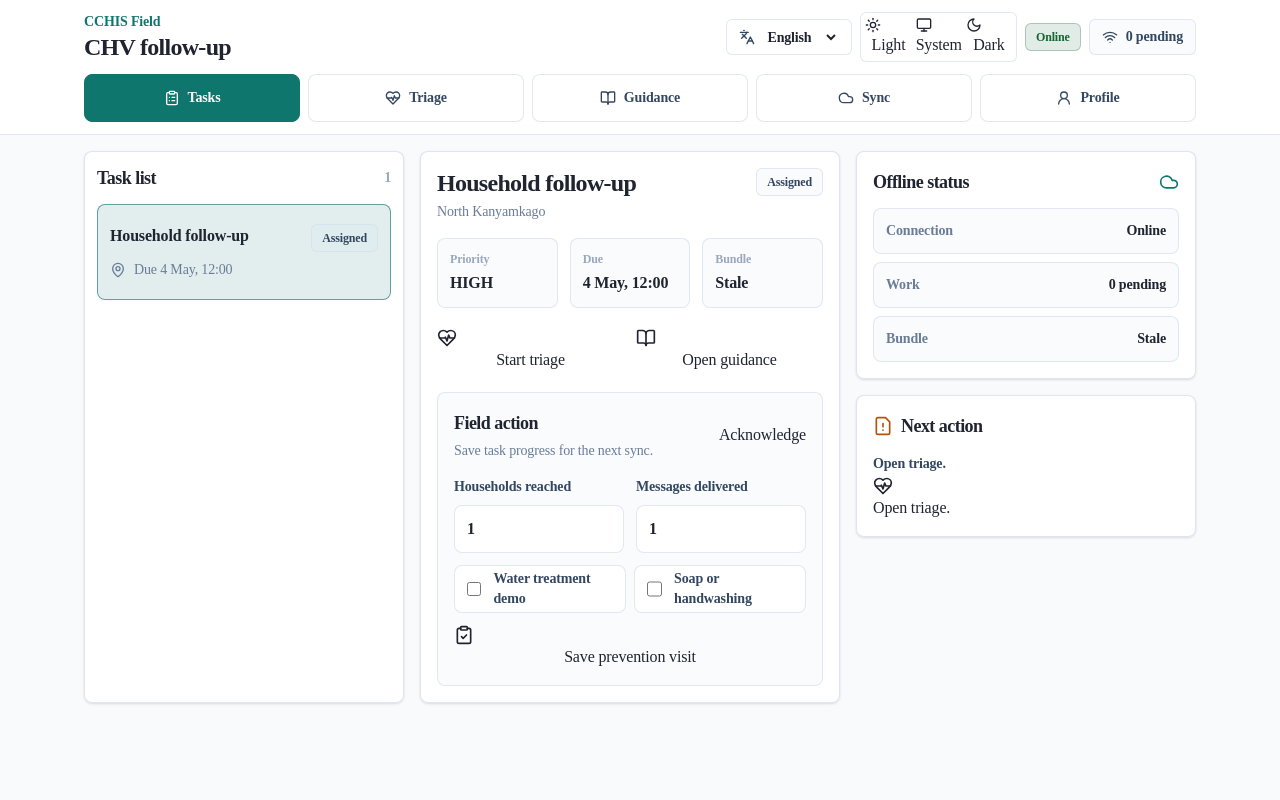
Scenario: ChvOfflinePage › loads live assigned tasks, registers the device, and syncs prevention visits
Click the button "Save prevention visit" at point(630, 647), box [454, 625, 806, 669]
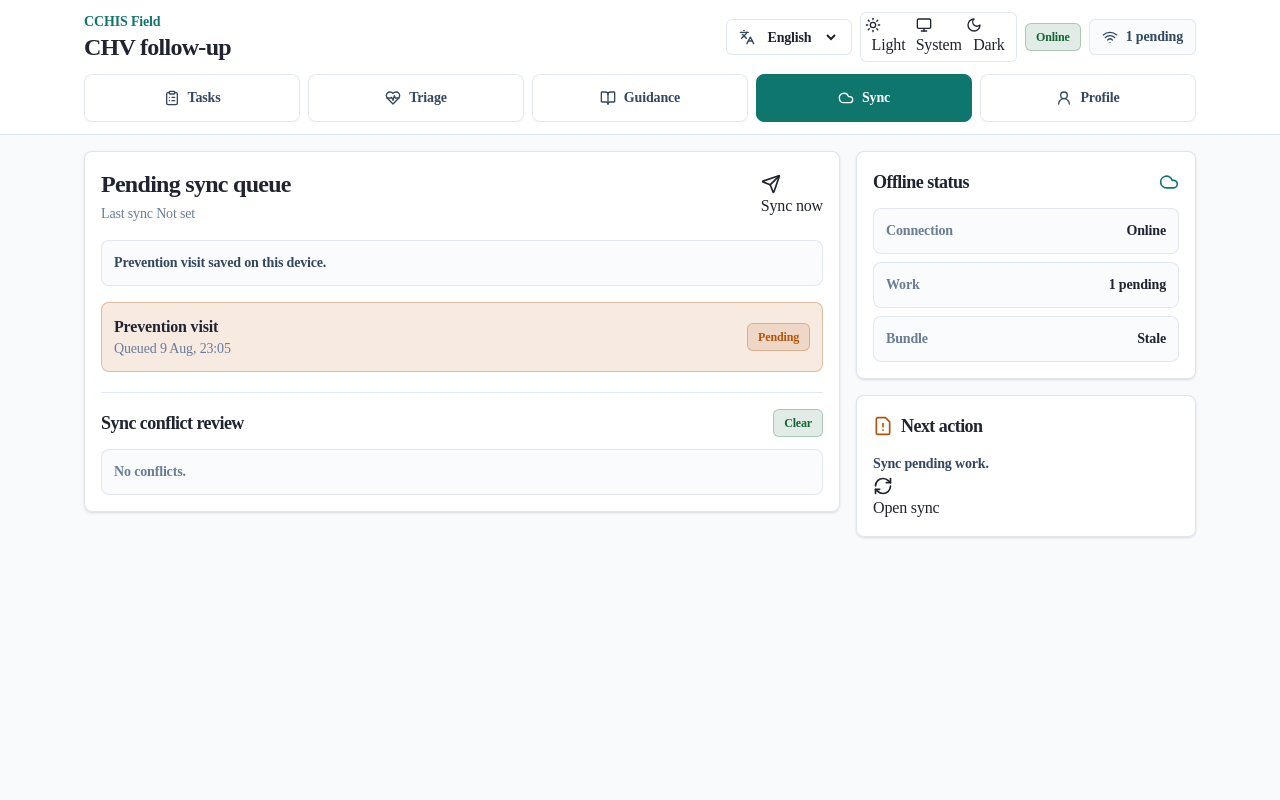
Click the button "Sync now" at point(792, 196), box [761, 174, 823, 218]
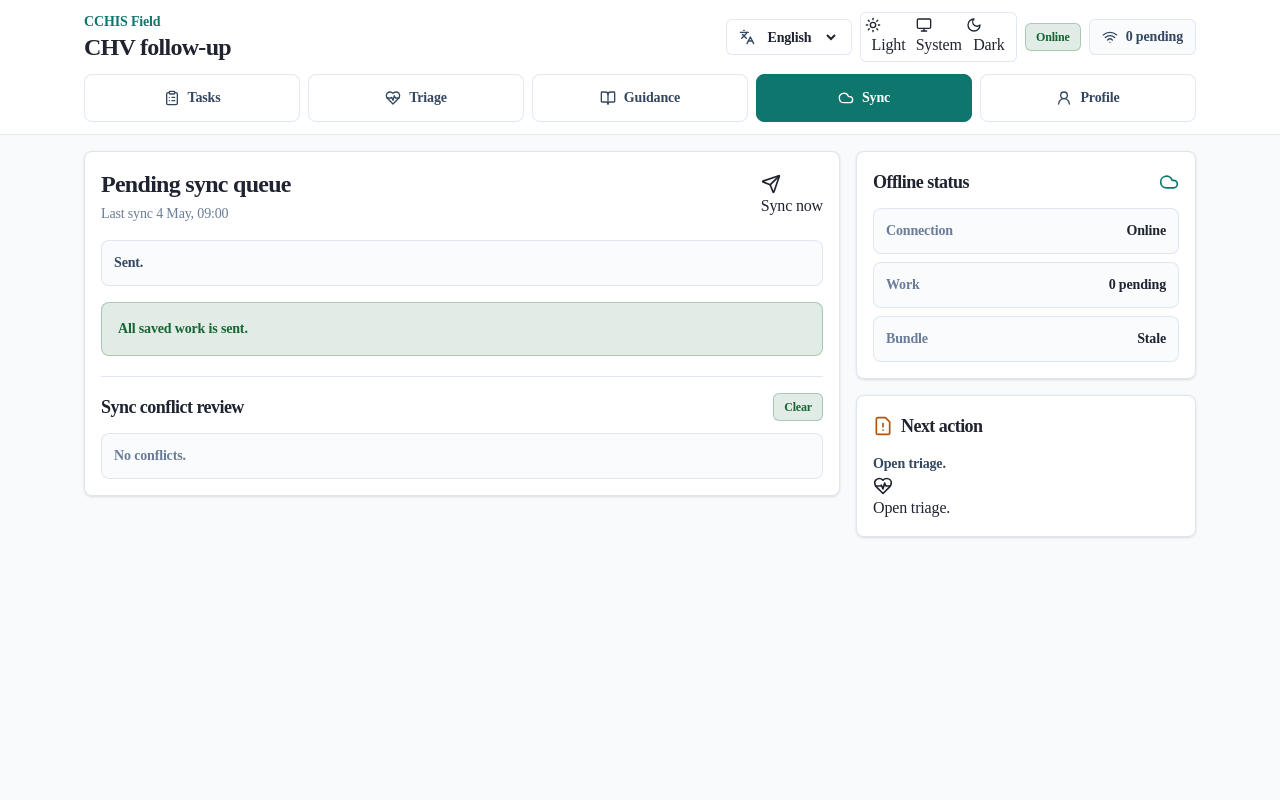
Now the text "Sent." is shown, box [101, 240, 823, 286]
